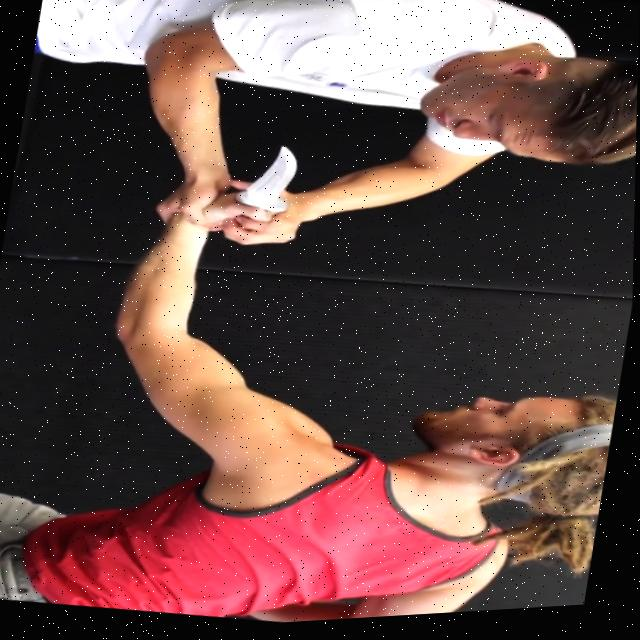knife: (228, 136, 308, 223)
